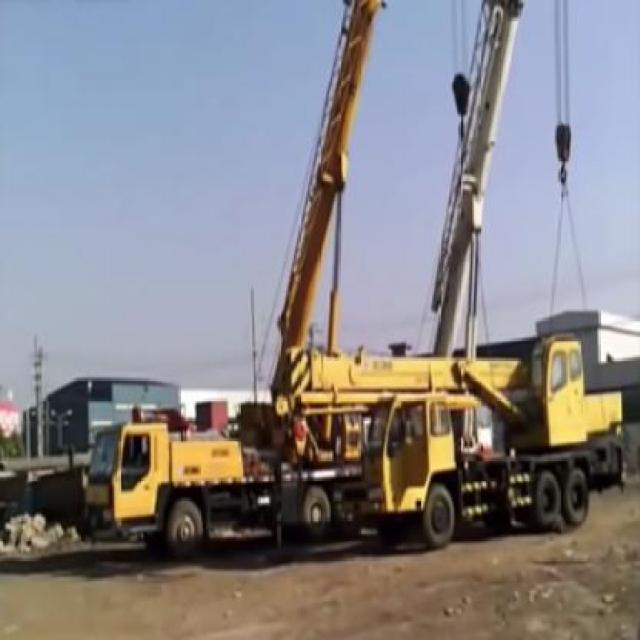Mobile Crane: (85, 0, 378, 548), (272, 334, 625, 546)
